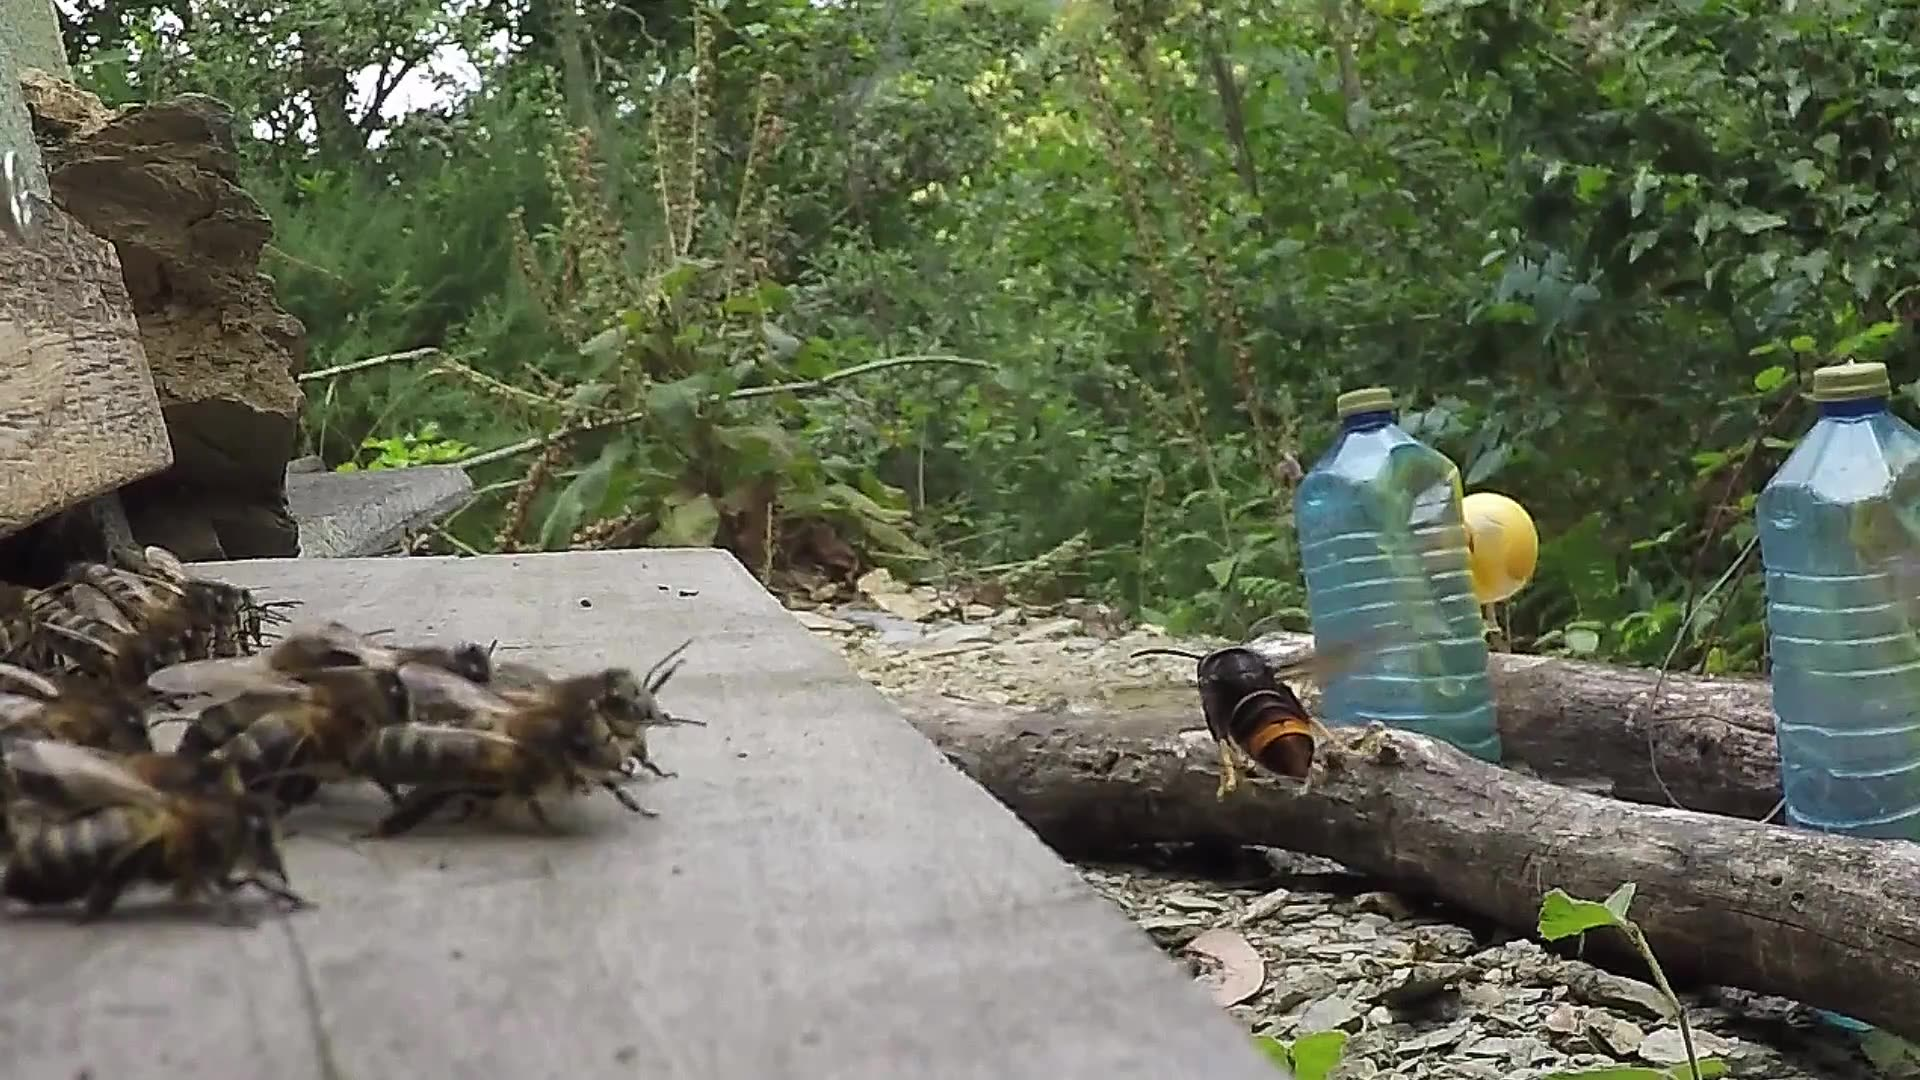bee: (233, 609, 705, 844), (3, 684, 266, 935), (32, 541, 287, 676)
hornet: (1162, 621, 1342, 783)
